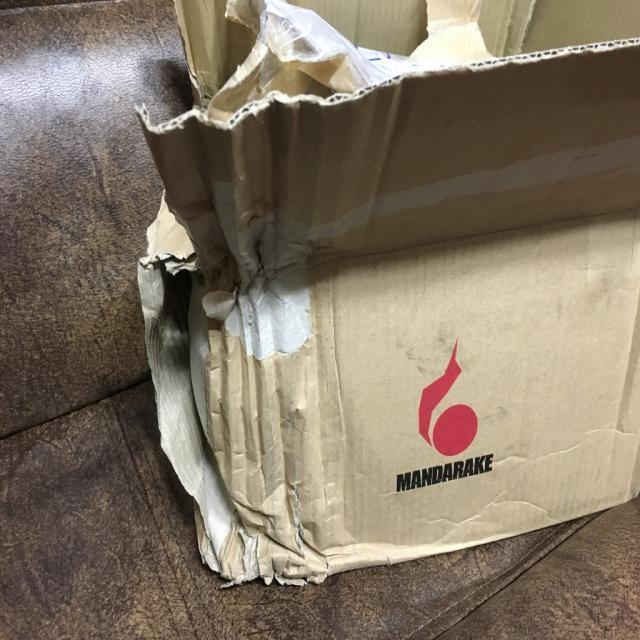hole: (148, 258, 270, 574)
